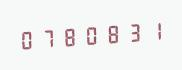eight: (59, 22, 79, 50), (101, 19, 121, 47)
one: (143, 16, 163, 44)
seven: (38, 23, 58, 52)
three: (122, 17, 142, 46)
zero: (80, 20, 100, 49), (17, 25, 37, 53)
